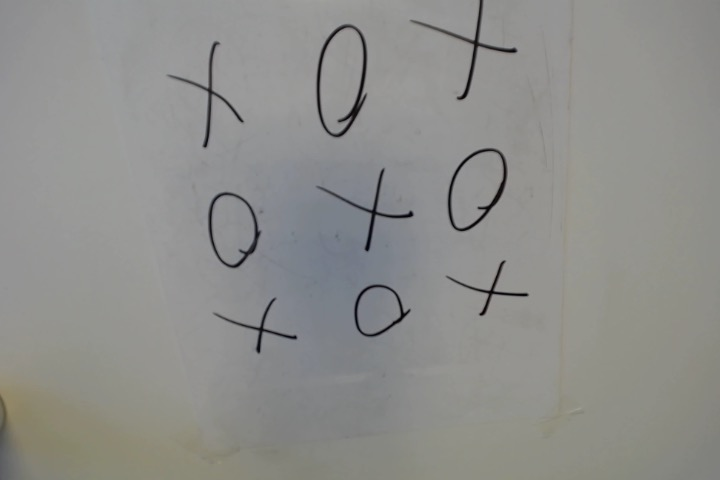0: (311, 18, 375, 149), (438, 143, 511, 236), (201, 189, 267, 272), (351, 281, 416, 340)
x: (149, 39, 248, 149), (314, 165, 416, 251), (208, 292, 304, 354), (447, 260, 529, 323)
